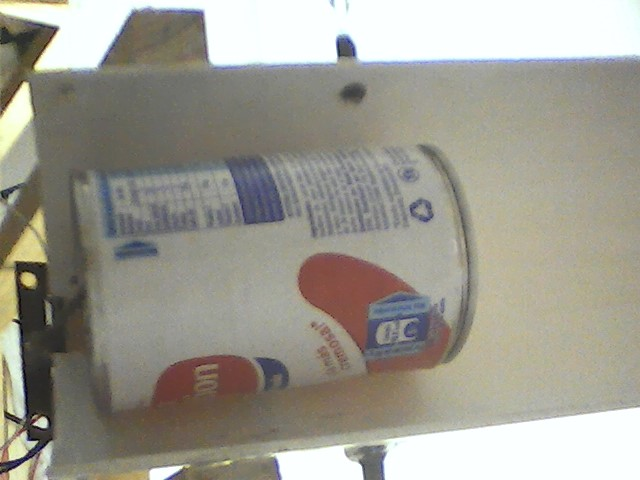lata: (67, 139, 486, 418)
